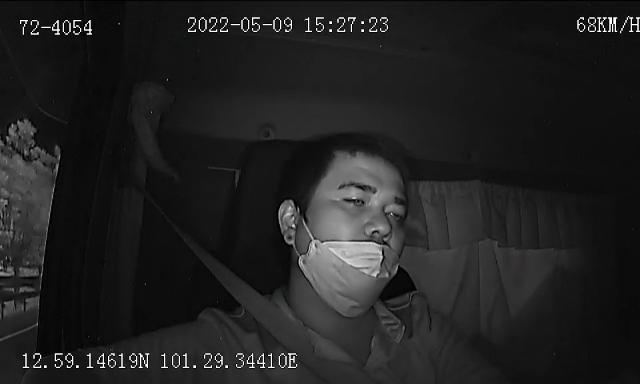SafeDriving: (337, 187, 372, 210), (379, 200, 408, 225)
Seatbelt: (172, 224, 336, 384)
